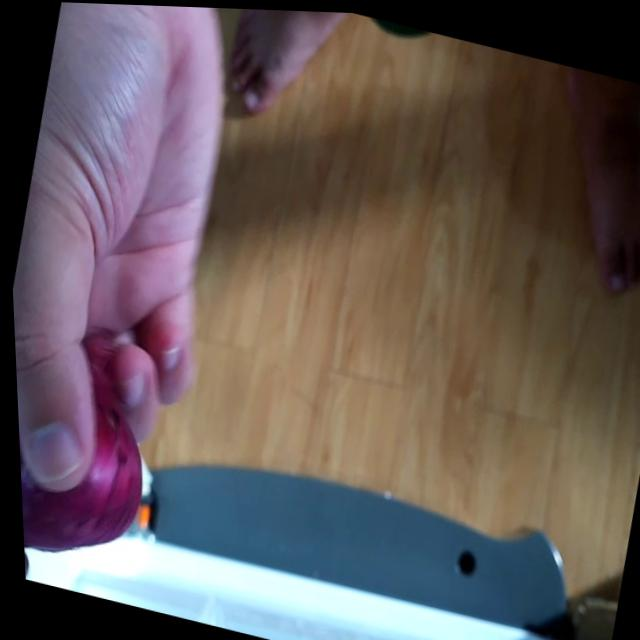onion: (12, 353, 162, 568)
